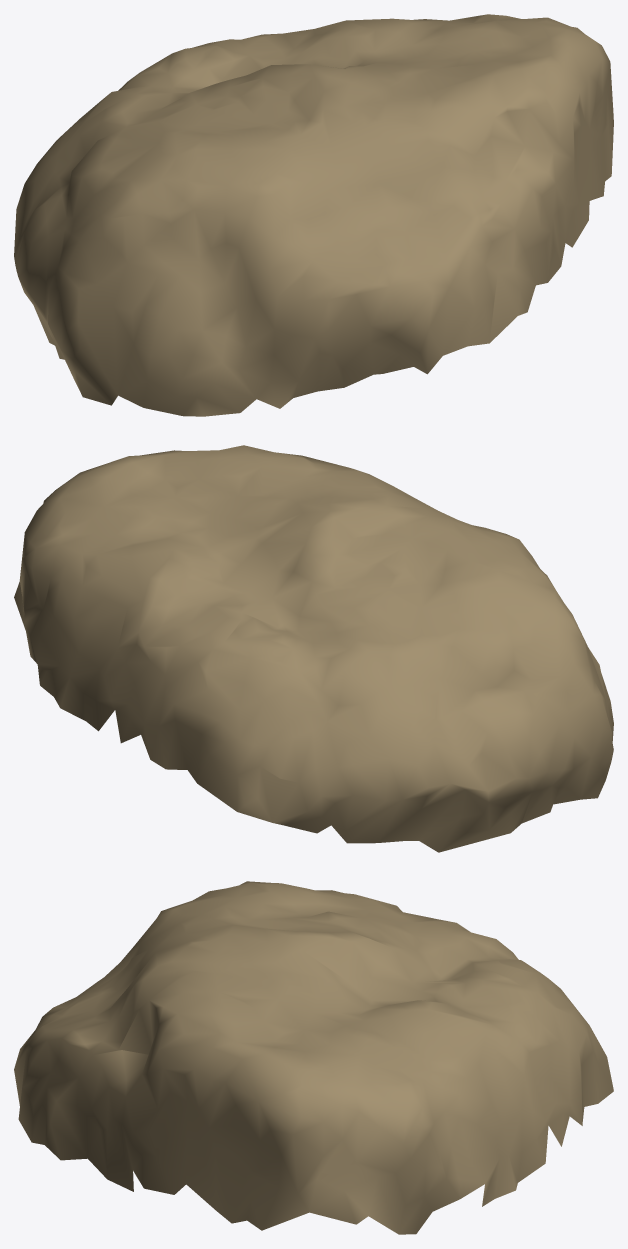
Rendered from LargeRock.fbx.
The picture shows the model from 3 angles, top to bottom: view 1: azimuth 30°, elevation 25°; view 2: azimuth 150°, elevation 25°; view 3: azimuth 270°, elevation 25°; orthographic projection. The views are drawn at different scales.
Parts seen in each view (by area): view 1: BigRock; view 2: BigRock; view 3: BigRock.
Boxes of the visible parts, left/top/right/bottom form: BigRock: left=14, top=14, right=613, bottom=416; BigRock: left=14, top=445, right=613, bottom=852; BigRock: left=14, top=881, right=613, bottom=1234.
Size of what is drawn, in the model's own units: 2846 by 1166 by 2515.
